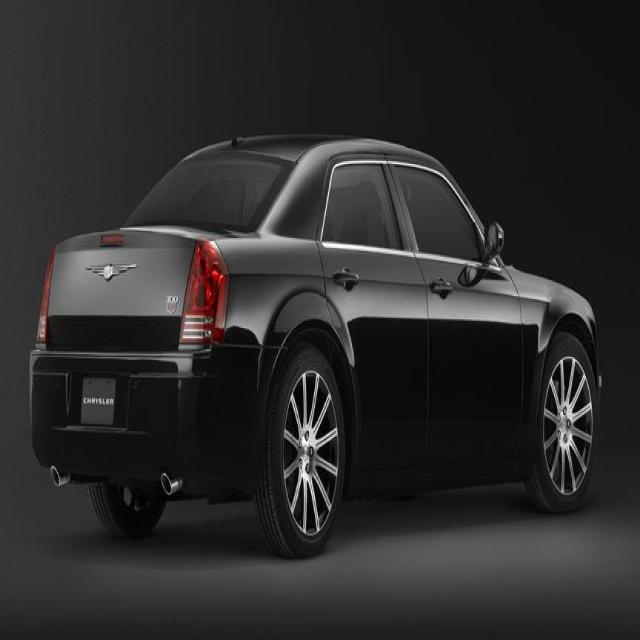Car: (22, 96, 602, 564)
